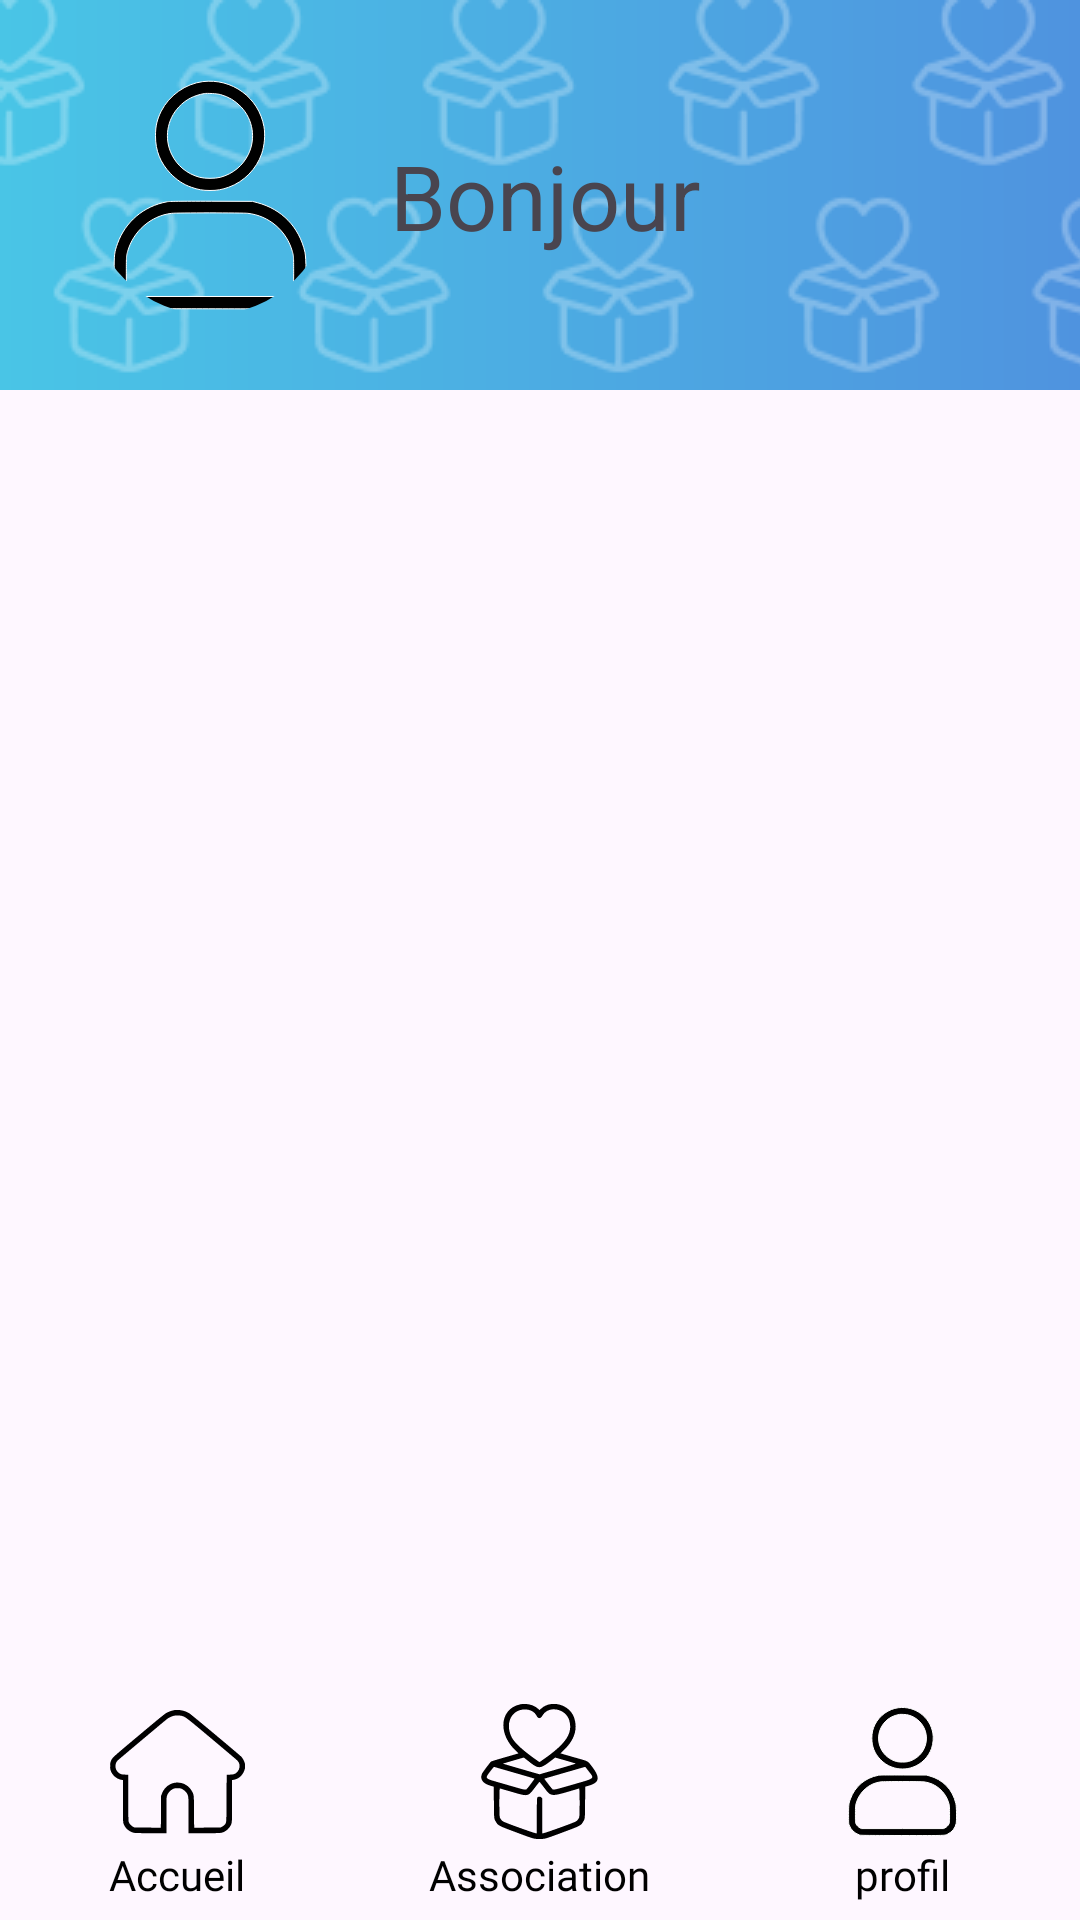

Icon click points for this 1080 x 1920 phone screenshot, format [x,y]:
profil noir: [210,195]
